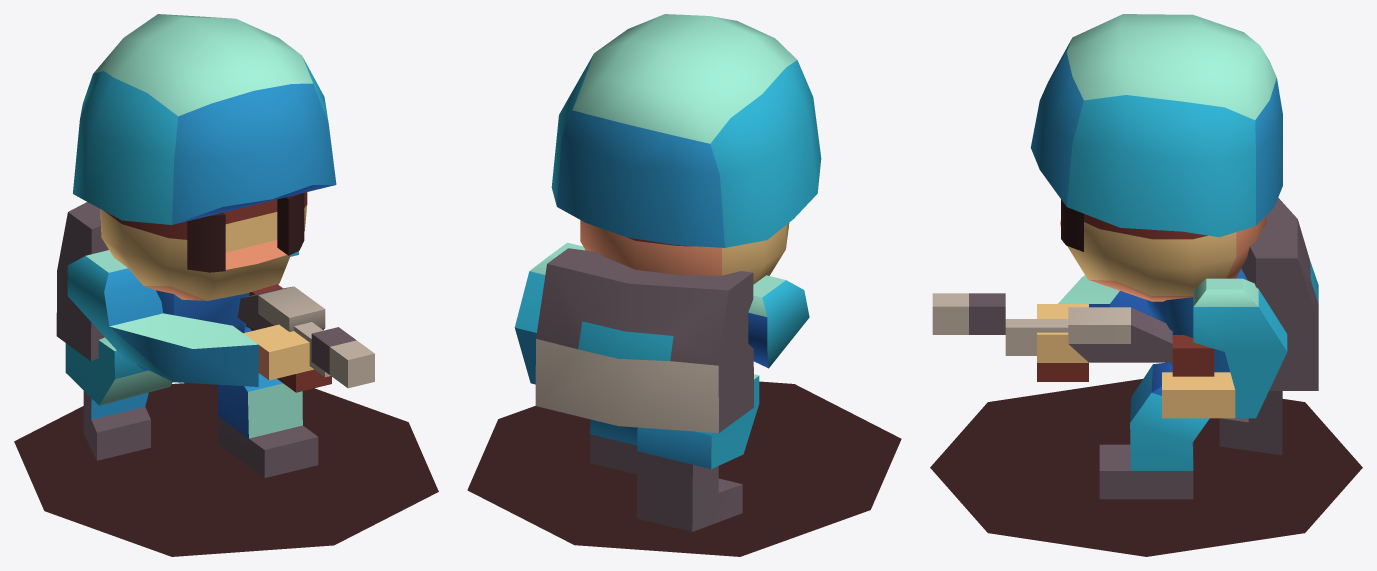
File: InfantryMesh.AzureAsteroid.glb
3 views of the same model, side by side, from view 1: azimuth 30°, elevation 25°; view 2: azimuth 150°, elevation 25°; view 3: azimuth 270°, elevation 25° (orthographic). The views are drawn at different scales.
Visible parts, largest first — view 1: InfantryMesh.AzureAsteroid; view 2: InfantryMesh.AzureAsteroid; view 3: InfantryMesh.AzureAsteroid.
Boxes of the visible parts, x1,y1,x2,y2 form: InfantryMesh.AzureAsteroid: [14, 14, 438, 556]; InfantryMesh.AzureAsteroid: [467, 14, 901, 556]; InfantryMesh.AzureAsteroid: [930, 14, 1362, 556].
Bounding box in the file's own units: 2.03 × 2.3 × 2.07.
1 material, 1 textured.
